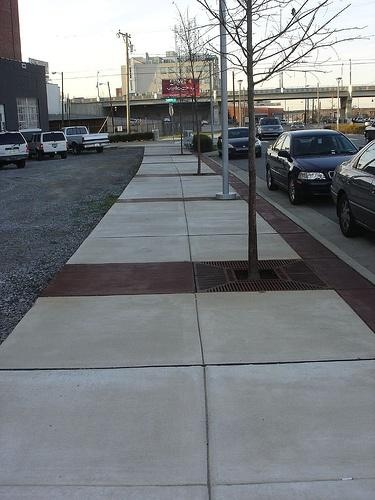car: (266, 128, 363, 203), (332, 139, 375, 241), (58, 125, 110, 157), (218, 126, 265, 160), (26, 131, 69, 160), (1, 132, 30, 171), (258, 118, 285, 140)
